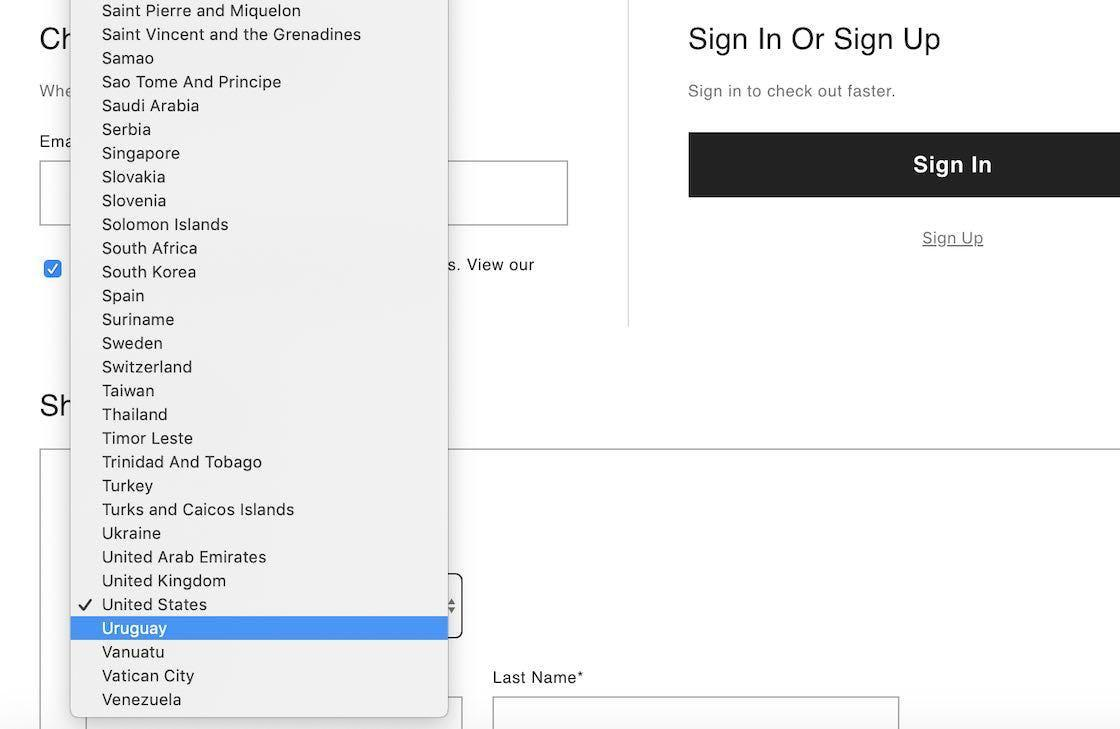button: (692, 133, 1120, 198)
checkbox: (45, 259, 64, 281)
label: (490, 666, 588, 693)
